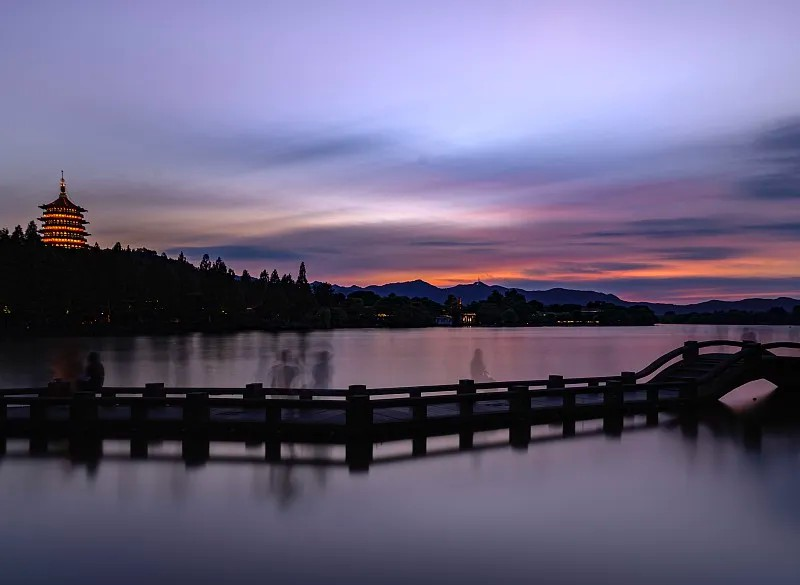Leifeng: (34, 171, 93, 251)
